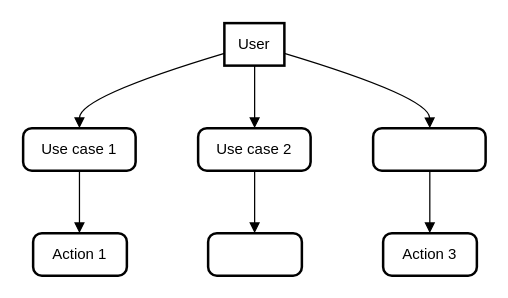
Some shapes in this 508 by 298 pixel diagram are drawn without their labels. Here are the shapes that lost their labels. From the top down, the box of each, then its label:
(371, 126, 486, 171): Use case 3
(206, 231, 302, 276): Action 2
